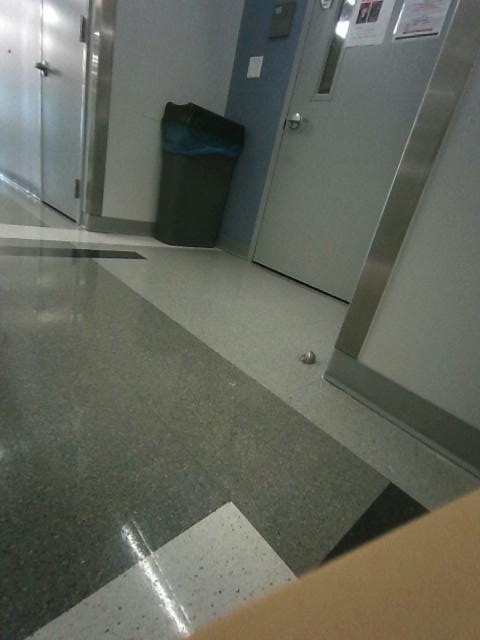ball: (299, 351, 315, 364)
